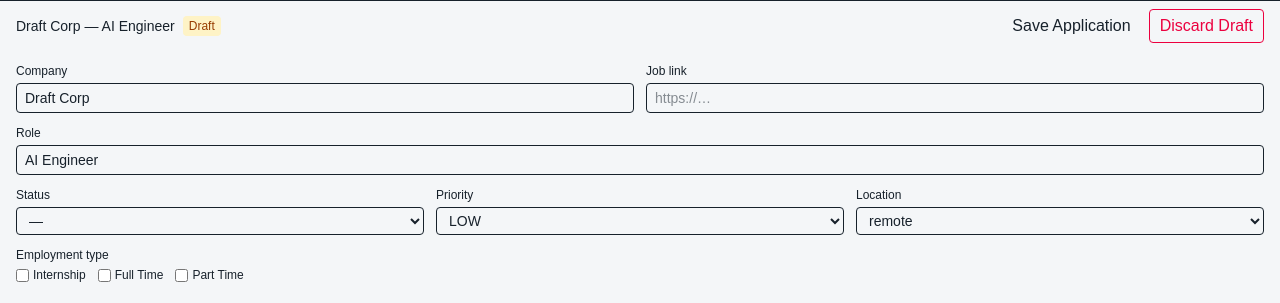
Test: Conflict handling › draft save error shown inline when saveDraft fails
Click the button "Save Application". click: [1071, 26]
box: top-left (1002, 10), bottom-right (1141, 42)
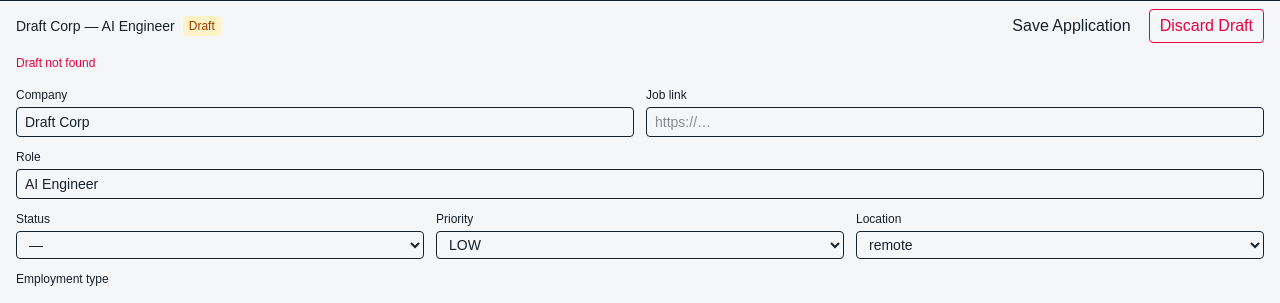
Expected: the text "Draft not found" is shown, top-left (16, 56), bottom-right (95, 70)
